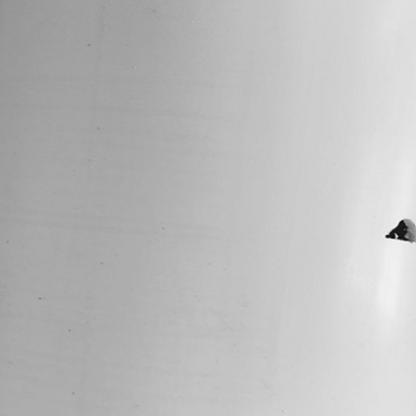kongdong: (368, 205, 416, 247)
